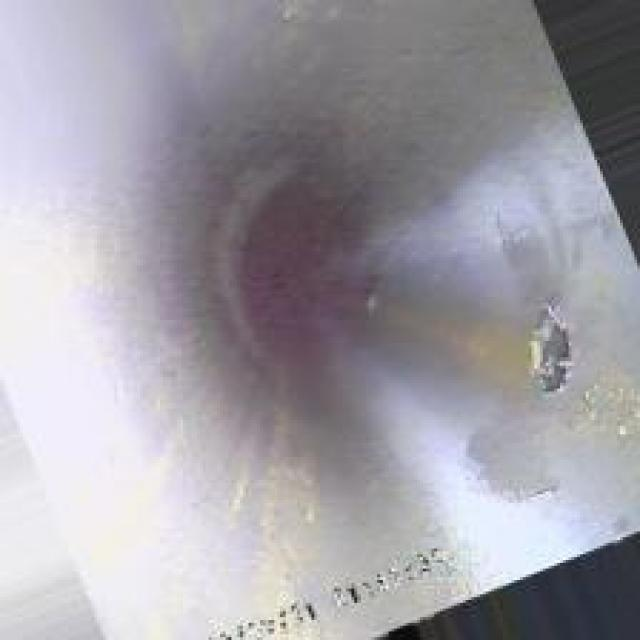ferrule: (514, 294, 594, 403)
